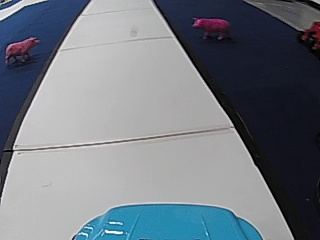pig: (189, 13, 231, 41), (3, 34, 38, 66)
